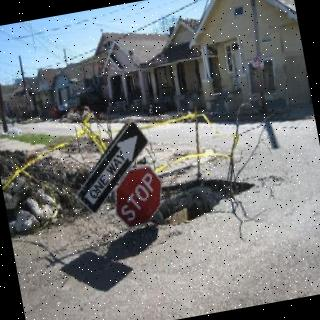pothole: (146, 178, 254, 226)
